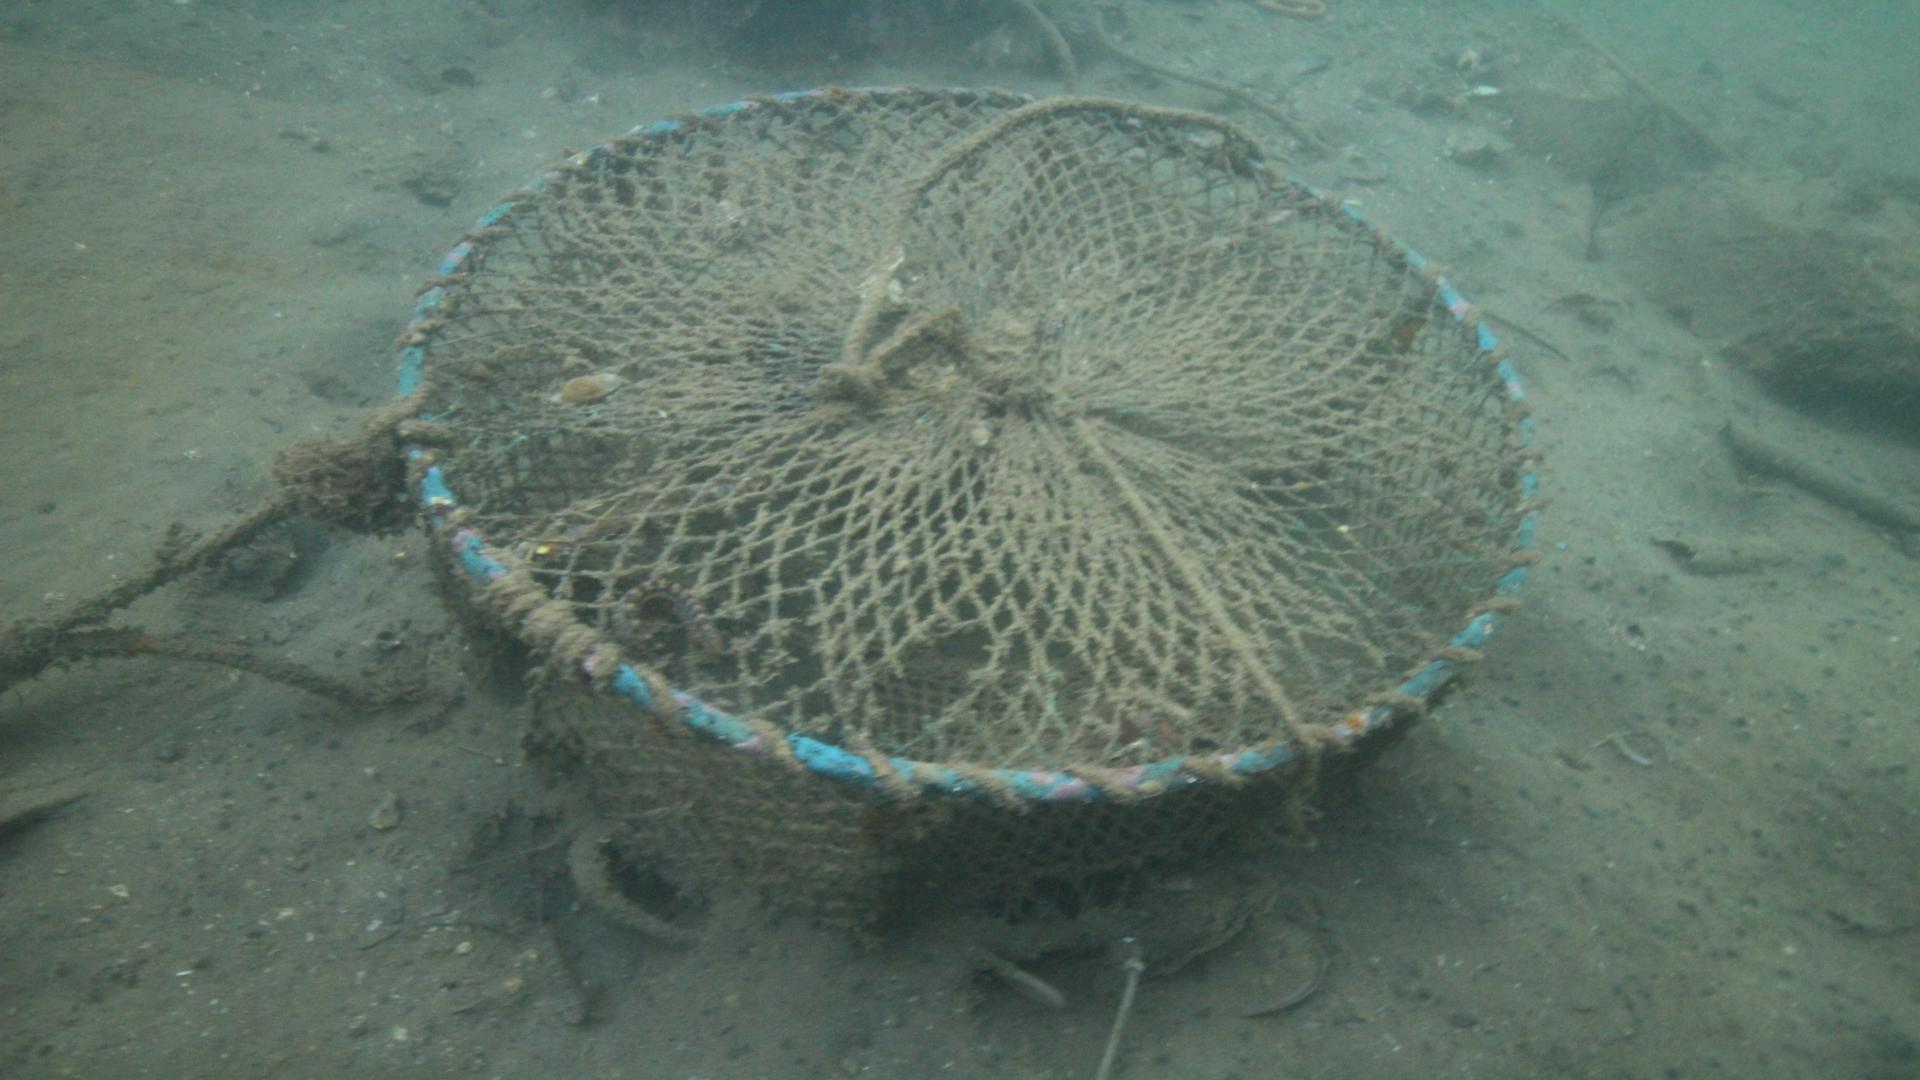circular fish trap: (389, 84, 1535, 945)
